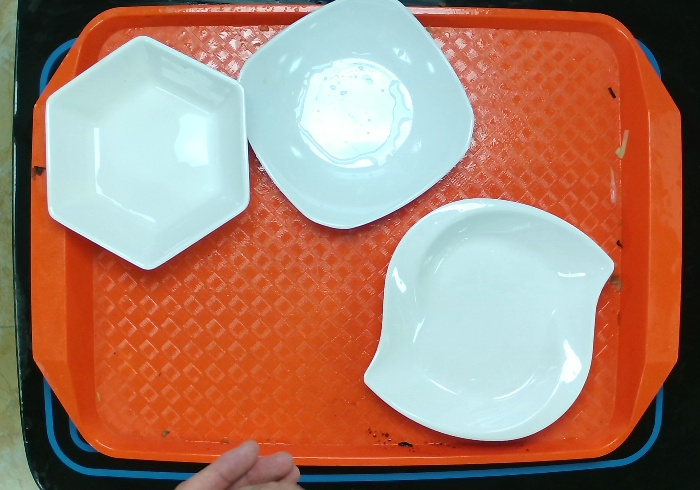RJxy-Liu_Jiao_Wan: (40, 38, 257, 271)
RJxy-Shuang_Jiao_Pan: (362, 199, 618, 446)
RJxy-Si_Fang_Wan: (235, 8, 476, 237)
